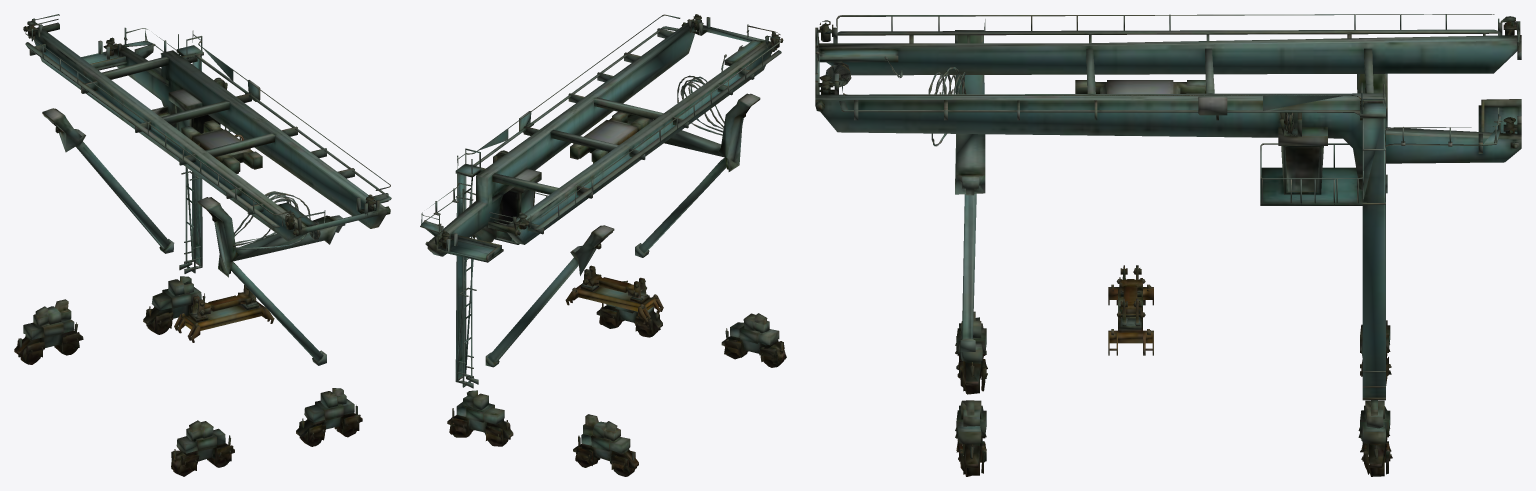
File: gantryCrane.glb
The picture shows the model from 3 angles, left to right: view 1: azimuth 30°, elevation 25°; view 2: azimuth 150°, elevation 25°; view 3: azimuth 270°, elevation 25°; orthographic projection. The views are drawn at different scales.
Parts seen in each view (by area): view 1: tripo_node_c583760d-4173-4d3d-accf-711c7b1bb8c7; view 2: tripo_node_c583760d-4173-4d3d-accf-711c7b1bb8c7; view 3: tripo_node_c583760d-4173-4d3d-accf-711c7b1bb8c7.
Boxes of the visible parts, left/top/right/bottom form: tripo_node_c583760d-4173-4d3d-accf-711c7b1bb8c7: left=14, top=14, right=391, bottom=476; tripo_node_c583760d-4173-4d3d-accf-711c7b1bb8c7: left=420, top=14, right=786, bottom=476; tripo_node_c583760d-4173-4d3d-accf-711c7b1bb8c7: left=815, top=14, right=1521, bottom=476.
Bounding box in the file's own units: 0.4121 × 0.5996 × 0.998.
1 material, 1 textured.
